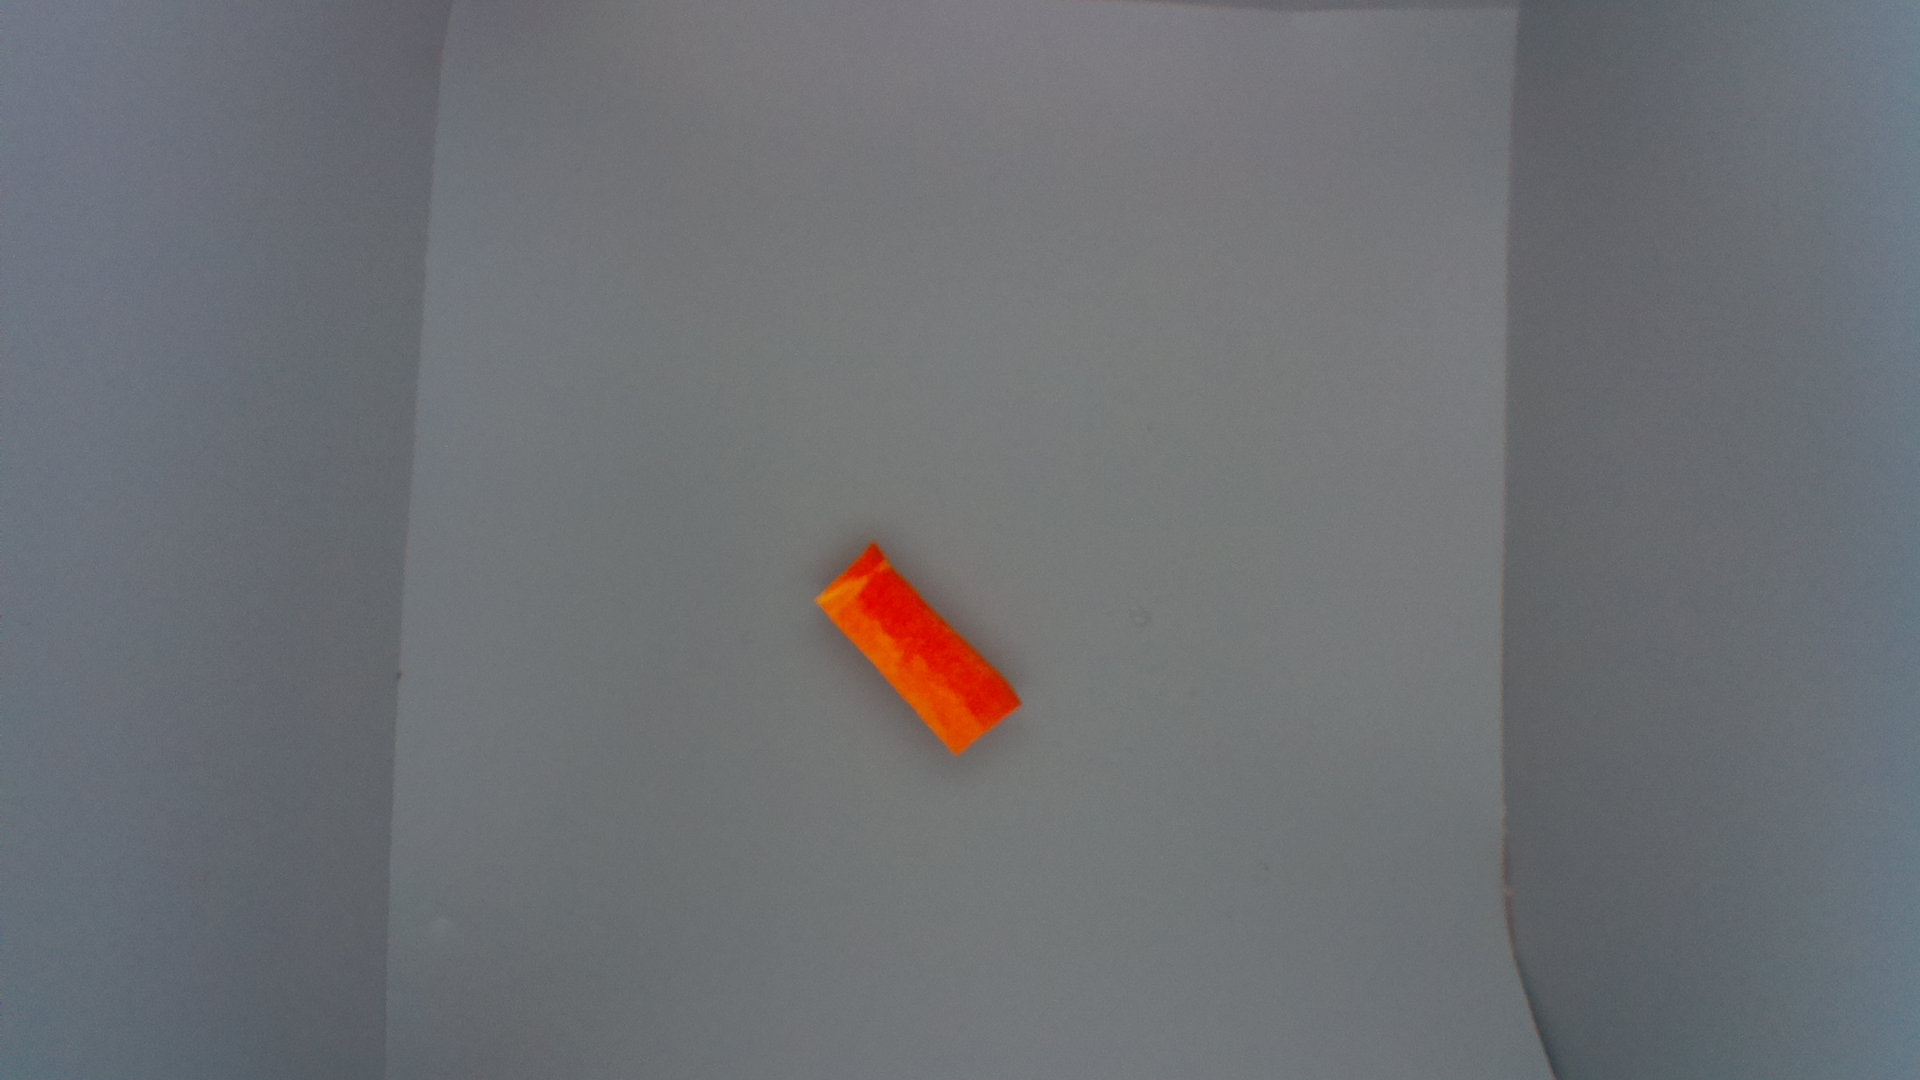carrot: (814, 538, 1023, 764)
